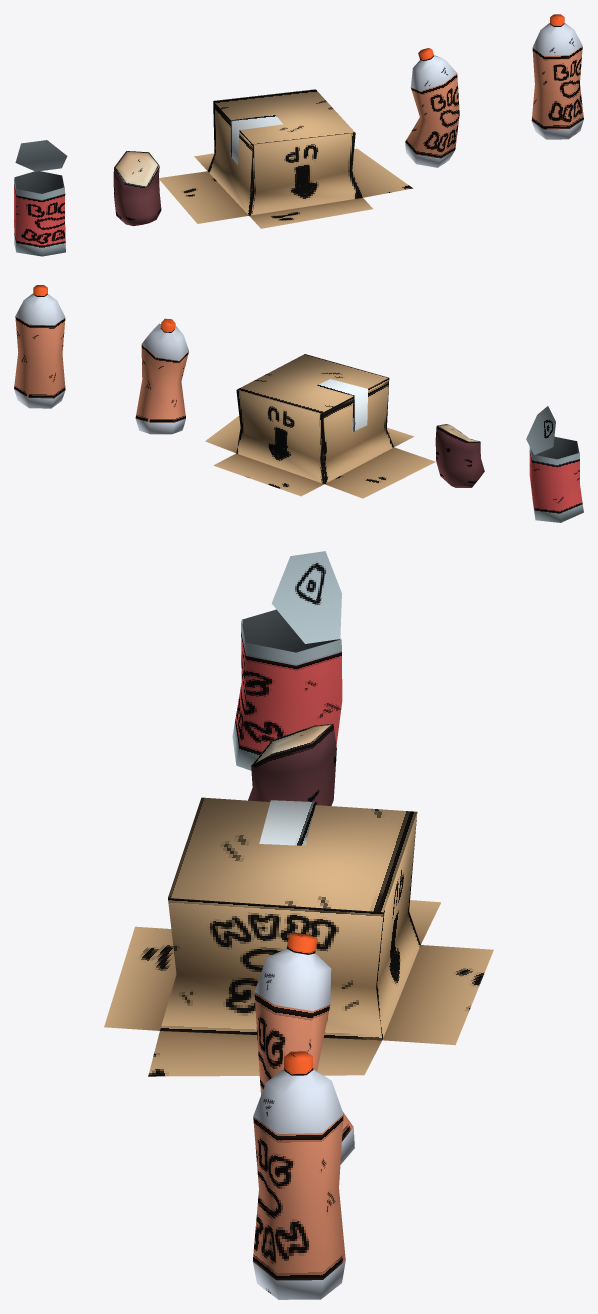
File: TrashProps.glb
3 renders of one model, top to bottom at view 1: azimuth 30°, elevation 25°; view 2: azimuth 150°, elevation 25°; view 3: azimuth 270°, elevation 25°, orthographic. The views are drawn at different scales.
Visible parts, largest first — view 1: CardboardBox, Bottle, BeanCan, BottleSmushed, BigBean; view 2: CardboardBox, Bottle, BottleSmushed, BeanCan, BigBean; view 3: CardboardBox, Bottle, BeanCan, BottleSmushed, BigBean.
Part boxes in pixels (bbox=[...]): CardboardBox: bbox=[159, 89, 412, 228]; Bottle: bbox=[531, 14, 583, 139]; BeanCan: bbox=[14, 140, 67, 256]; BottleSmushed: bbox=[405, 48, 459, 167]; BigBean: bbox=[113, 151, 161, 226]; CardboardBox: bbox=[205, 354, 435, 498]; Bottle: bbox=[14, 285, 65, 408]; BottleSmushed: bbox=[135, 318, 188, 434]; BeanCan: bbox=[526, 406, 583, 522]; BigBean: bbox=[435, 424, 484, 487]; CardboardBox: bbox=[104, 797, 493, 1076]; Bottle: bbox=[252, 1051, 345, 1299]; BeanCan: bbox=[232, 551, 342, 770]; BottleSmushed: bbox=[254, 932, 354, 1164]; BigBean: bbox=[248, 723, 336, 805].
Bounding box in the file's own units: 3.9 × 0.783 × 1.18.
1 material, 1 textured.
